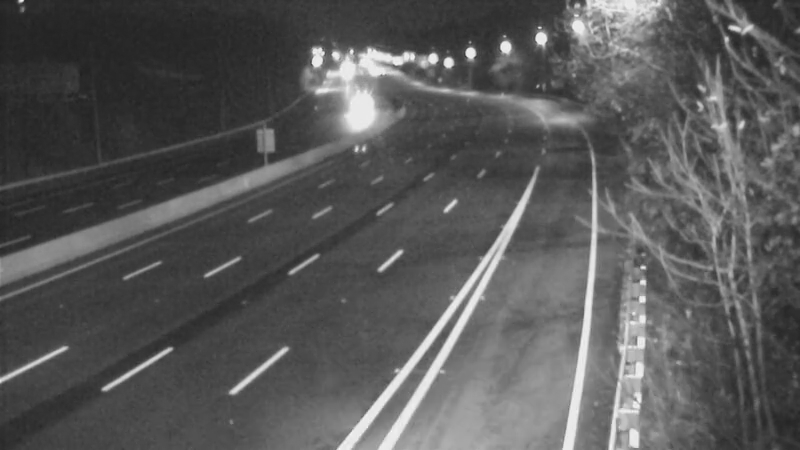vehicle: (329, 85, 379, 135)
